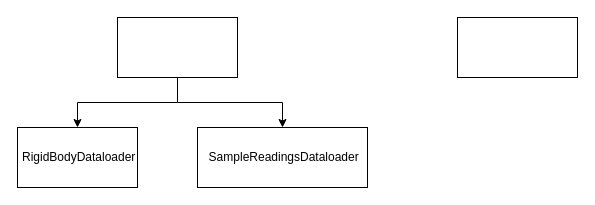
This 595x205 diagram has some shape labels left out. The centre of each missing label's shape, as x and y in pixels:
Dataloader: (x=177, y=47)
Surfaceloader: (x=517, y=47)
